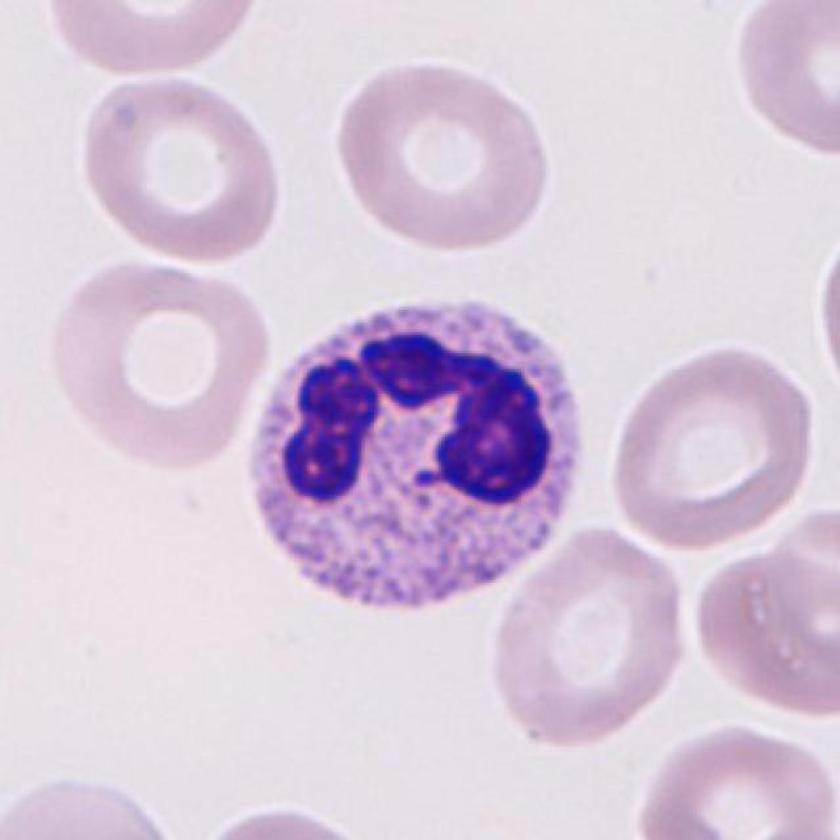neutrophil: (245, 302, 584, 610)
